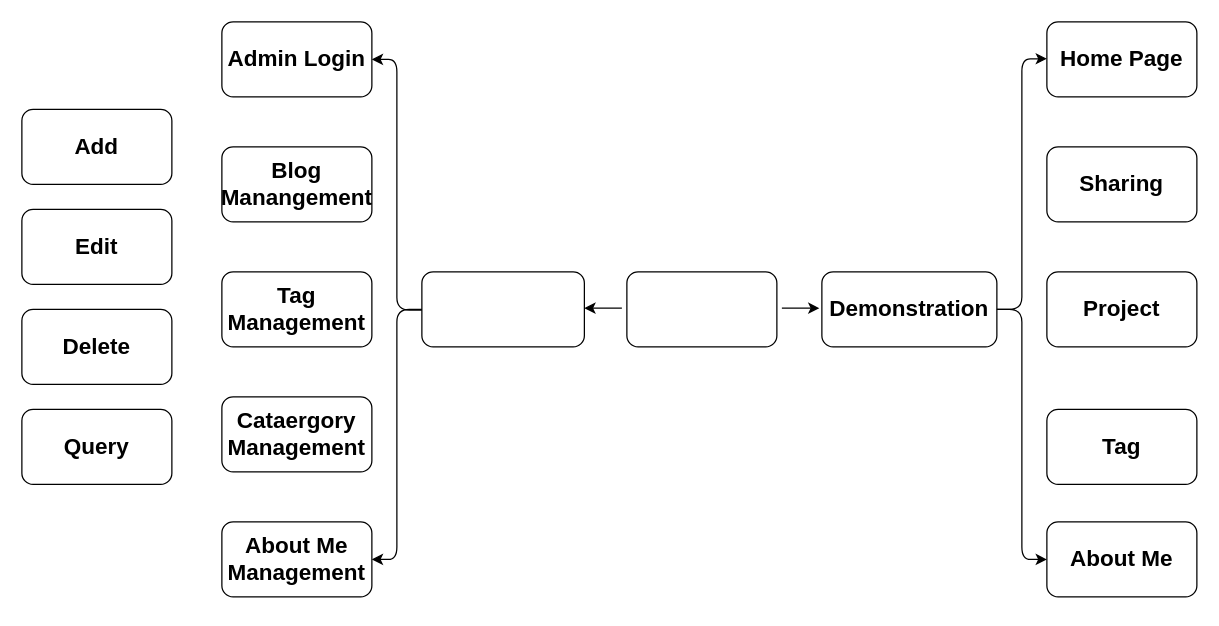
The diagram is 1219 pixels wide and 626 high, and some of its shapes have lost their labels. Here are the shapes that lost their labels. From the top down, the centre of each, then its label:
At [502,309]: "Management".
At [701,309]: "Blog System Front End".
